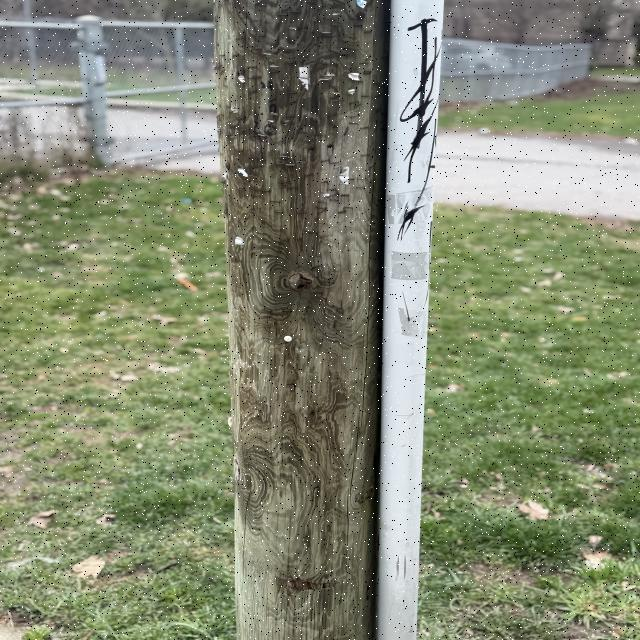Electrical Pole: (210, 3, 392, 637)
